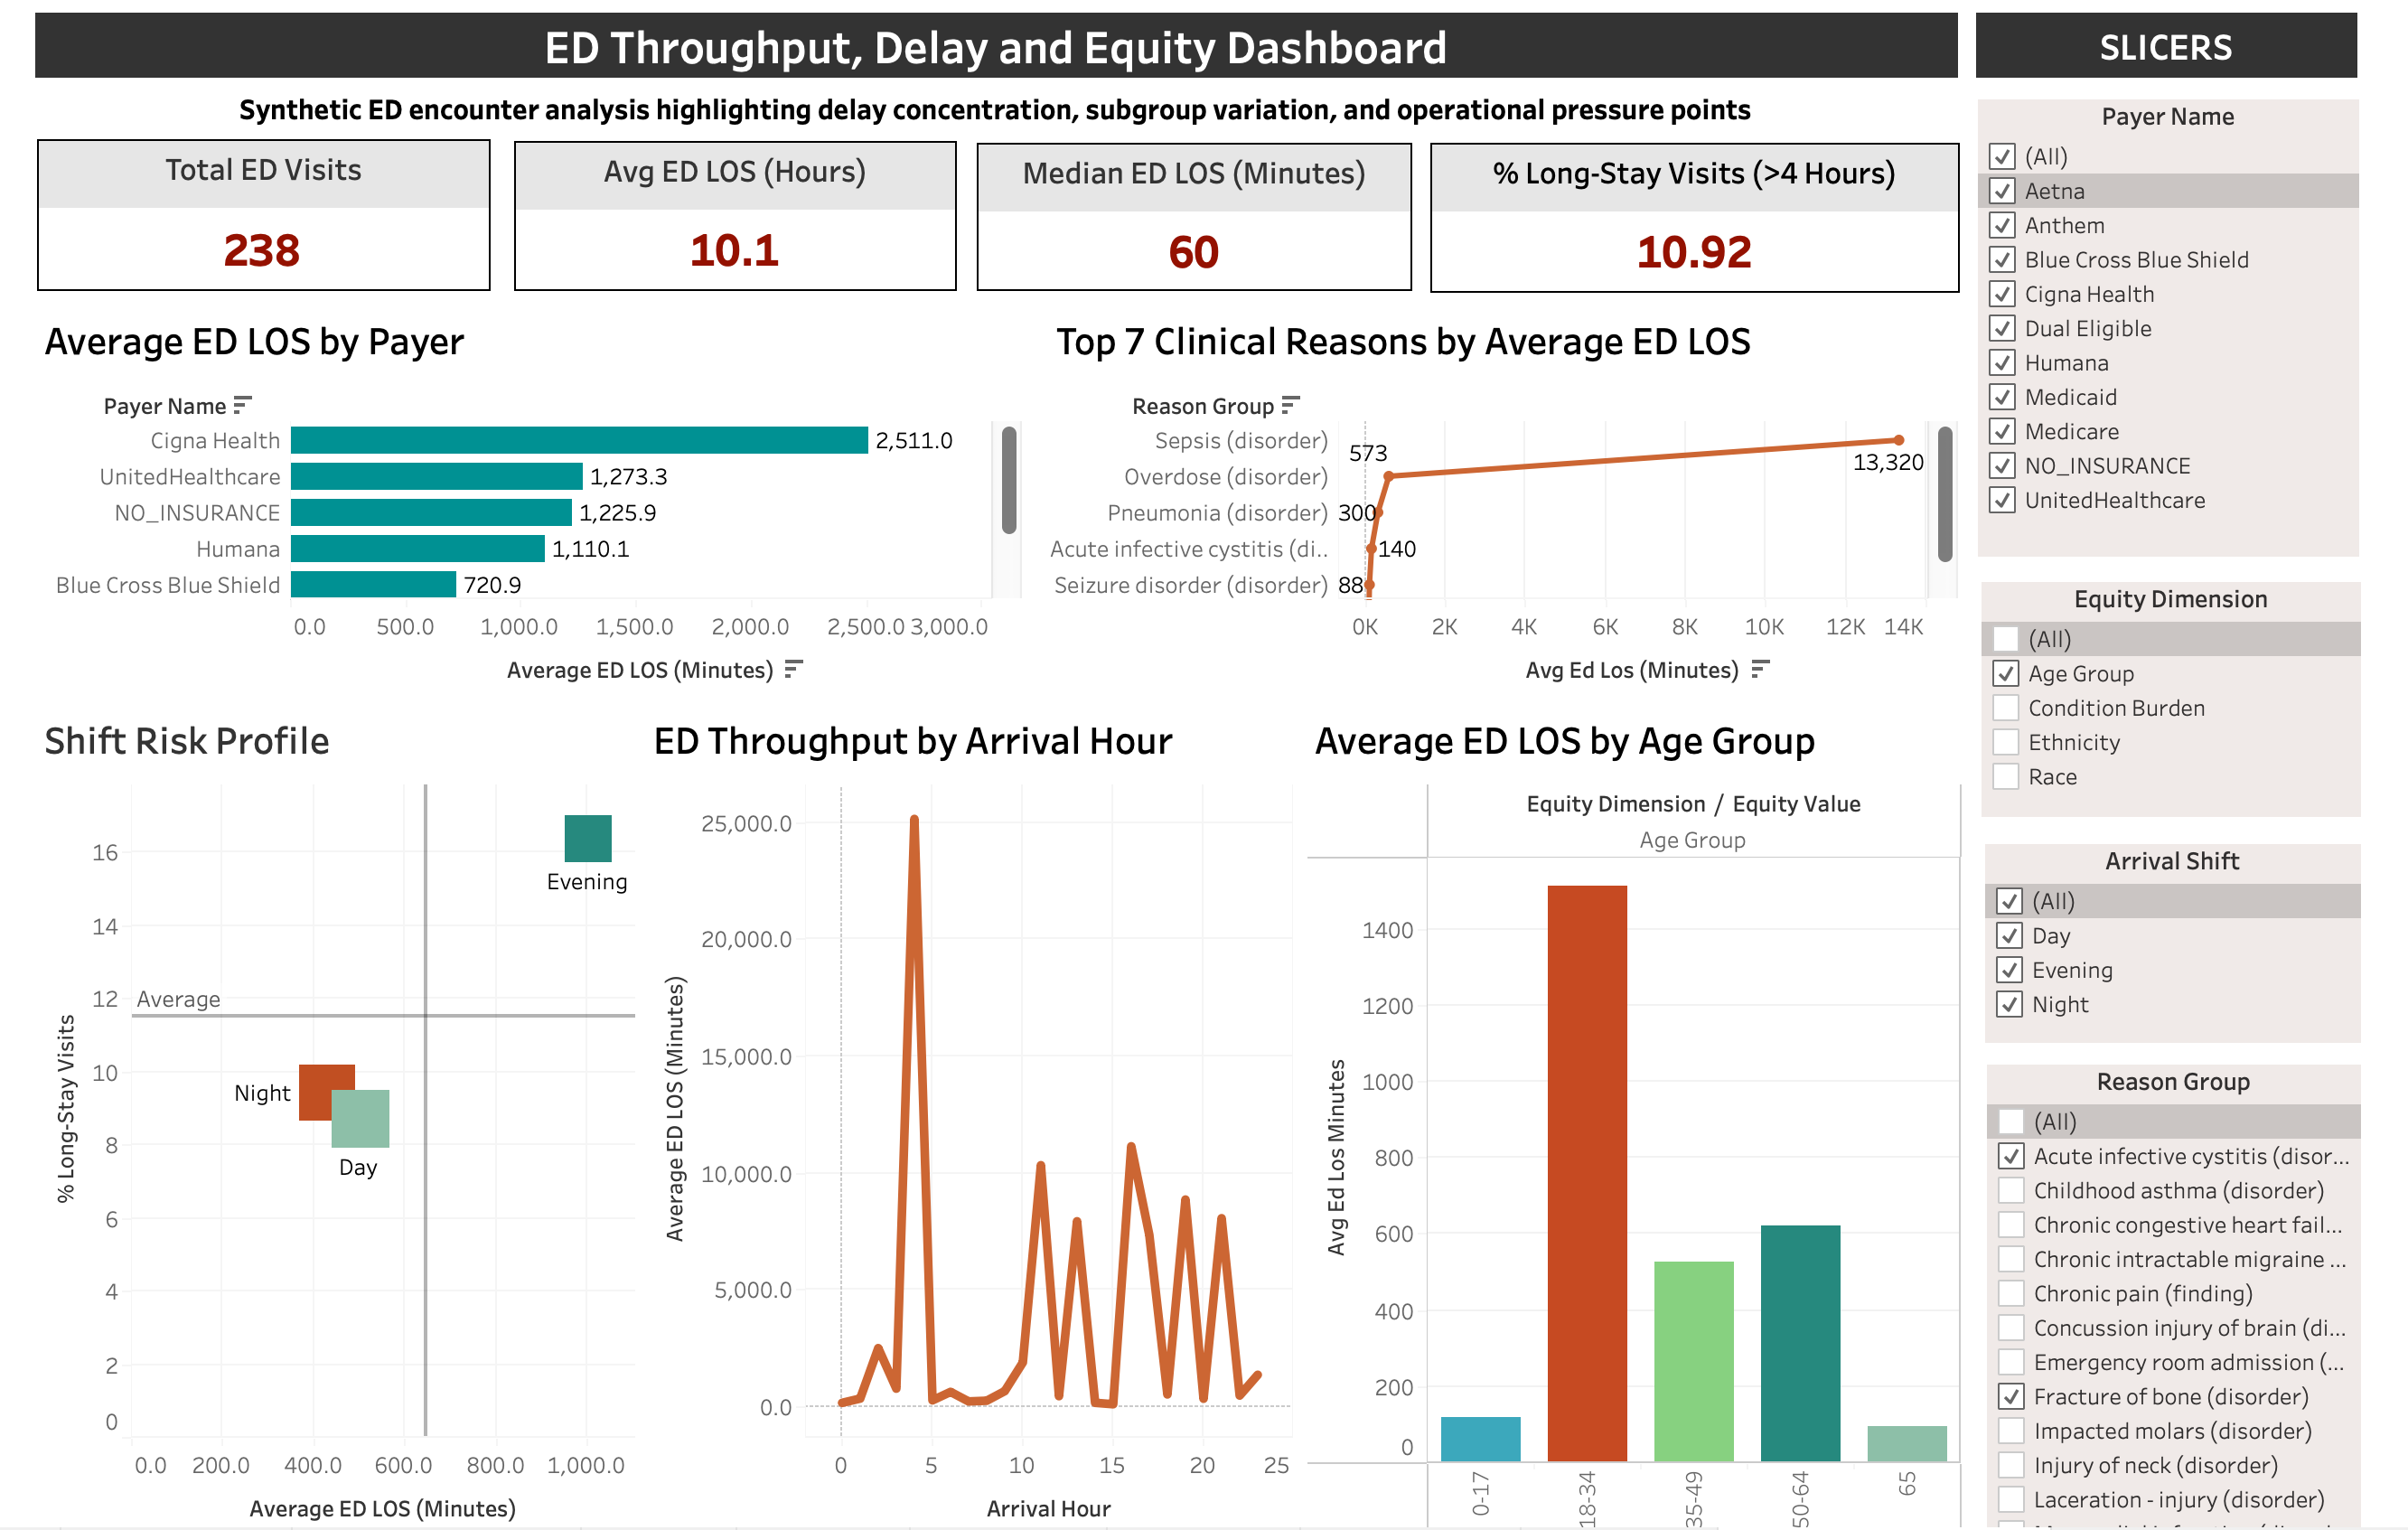

This screenshot's page, from the dashboard's own definition file:
{"tool":"tableau","page":{"name":"ED Throughput Dashboard","canvas":[1300,1000],"ordinal":0},"visuals":[{"type":"text","box":[6,12,1064,36]},{"type":"text","box":[1080,12,211,36]},{"type":"text","box":[6,49,1063,33]},{"type":"filter","title":"Payer Dot Plot","param":"[federated.12e92pt1ifv8xh1d82r511srz0b5].[none:payer_name:nk]","box":[1081,60,211,253]},{"type":"worksheet","title":"Total ED Visits","mark":"Automatic","box":[7,82,251,84]},{"type":"worksheet","title":"Avg ED LOS (Hours)","mark":"Text","box":[271,83,245,83]},{"type":"worksheet","title":"Median ED LOS (Minutes)","mark":"Text","box":[527,84,241,82]},{"type":"worksheet","title":"% Long Stay","mark":"Text","box":[778,84,293,83]},{"type":"worksheet","title":"Payer Dot Plot","mark":"Automatic","rows":["payer_name"],"cols":["avg_ed_los_minutes"],"box":[7,175,545,216]},{"type":"worksheet","title":"Clinical Reasons","mark":"Line","rows":["reason_group"],"cols":["avg_ed_los_minutes"],"box":[567,175,503,216]},{"type":"filter","title":"Equity Comparison","param":"[federated.1h2es2315clopg1fujdmt1pinvqm].[none:equity_dimension:nk]","box":[1083,327,210,130]},{"type":"worksheet","title":"Shift Risk Profile","mark":"Square","rows":["pct_long_stay"],"cols":["avg_ed_los_minutes"],"box":[7,396,331,459]},{"type":"worksheet","title":"Arrival Hour Line","mark":"Line","rows":["avg_ed_los_minutes"],"cols":["arrival_hour"],"box":[344,396,358,459]},{"type":"worksheet","title":"Equity Comparison","mark":"Automatic","rows":["avg_ed_los_minutes"],"cols":["equity_dimension","equity_value"],"box":[710,396,362,459]},{"type":"filter","title":"Shift Risk Profile","param":"[federated.1kpkofa09av9bj1aey6x609bpl4u].[none:arrival_shift:nk]","box":[1085,472,208,110]},{"type":"filter","title":"Clinical Reasons","param":"[federated.0j8gcaf16j0mg2115r5l11dcmti6].[none:reason_group:nk]","box":[1086,594,207,393]},{"type":"text","box":[7,863,1066,134]}]}

Visuals, with their boxes on the page's 1300x1000 design canvas (x1, y1, x2, y2). These are canvas units, not pixel positions in the 2408x1530 screenshot, which may show the page scaled, cropped or inside an application window:
text: region(6, 12, 1070, 48)
text: region(1080, 12, 1291, 48)
text: region(6, 49, 1069, 82)
"Payer Dot Plot" filter: region(1081, 60, 1292, 313)
"Total ED Visits" worksheet: region(7, 82, 258, 166)
"Avg ED LOS (Hours)" worksheet (Text marks): region(271, 83, 516, 166)
"Median ED LOS (Minutes)" worksheet (Text marks): region(527, 84, 768, 166)
"% Long Stay" worksheet (Text marks): region(778, 84, 1071, 167)
"Payer Dot Plot" worksheet: region(7, 175, 552, 391)
"Clinical Reasons" worksheet (Line marks): region(567, 175, 1070, 391)
"Equity Comparison" filter: region(1083, 327, 1293, 457)
"Shift Risk Profile" worksheet (Square marks): region(7, 396, 338, 855)
"Arrival Hour Line" worksheet (Line marks): region(344, 396, 702, 855)
"Equity Comparison" worksheet: region(710, 396, 1072, 855)
"Shift Risk Profile" filter: region(1085, 472, 1293, 582)
"Clinical Reasons" filter: region(1086, 594, 1293, 987)
text: region(7, 863, 1073, 997)
